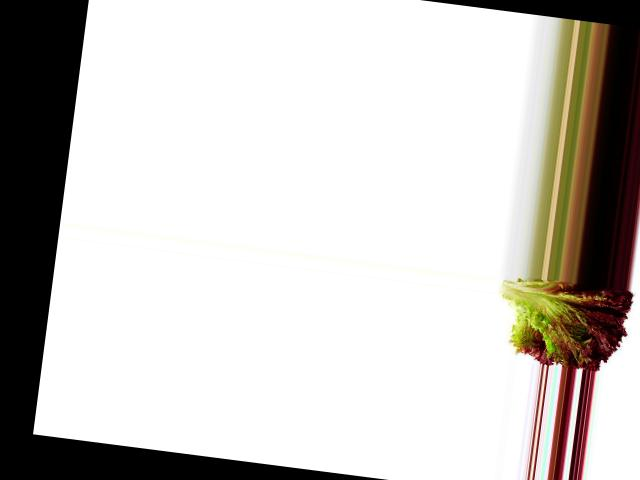lettuce: (488, 273, 640, 374)
